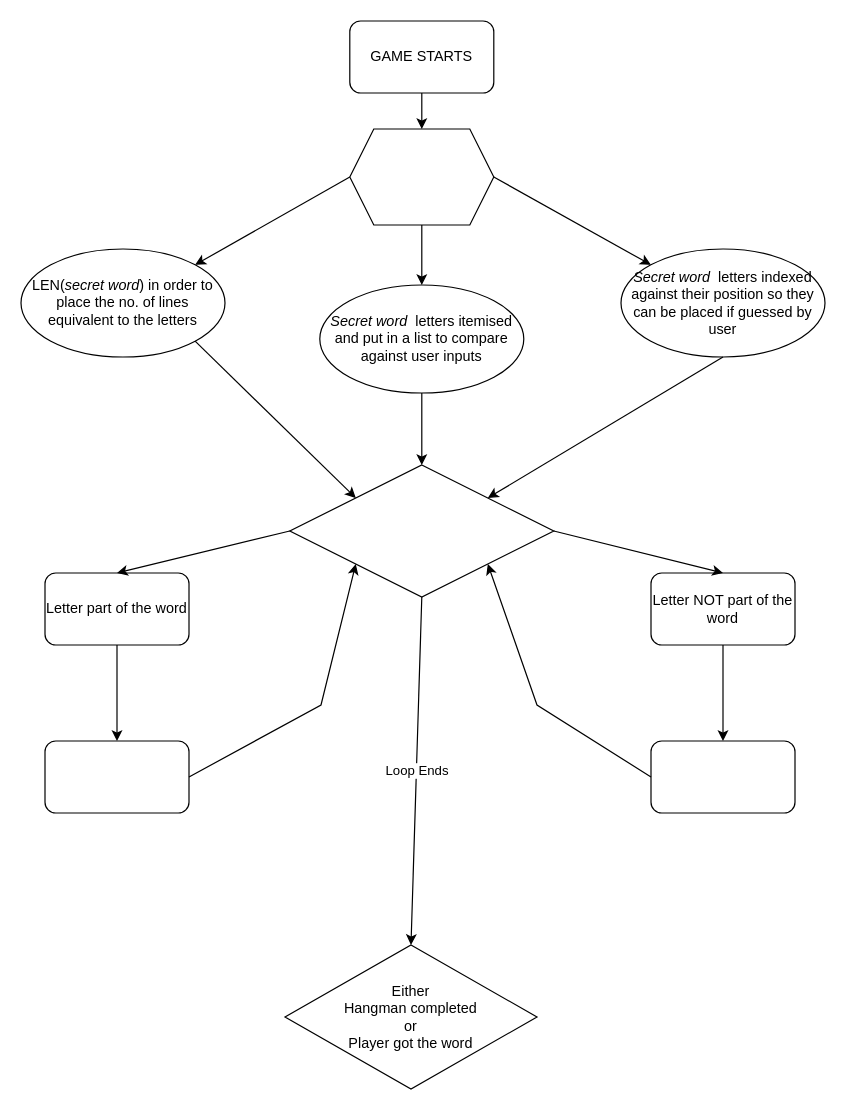
Some shapes in this 846 by 1110 pixel diagram are drawn without their labels. The box of each missing label's shape, as (x1, y1, x2, y2) in pixels:
Ask user to input a letter: (289, 464, 554, 597)
Input a line on the hangman: (650, 740, 795, 813)
Input on the word: (44, 740, 189, 813)
Random Word Chosen by program: (349, 128, 494, 225)
